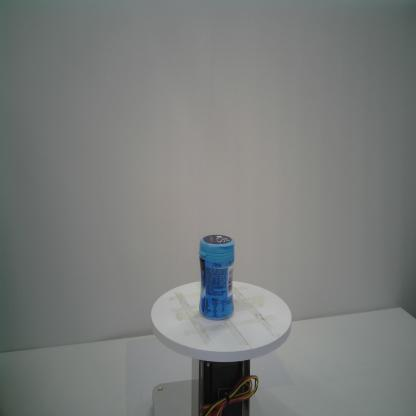Gum: (198, 233, 235, 321)
